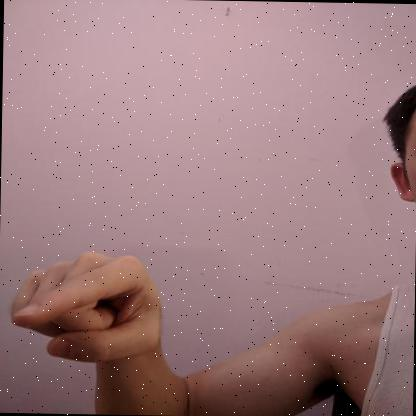Z: (10, 251, 160, 362)
